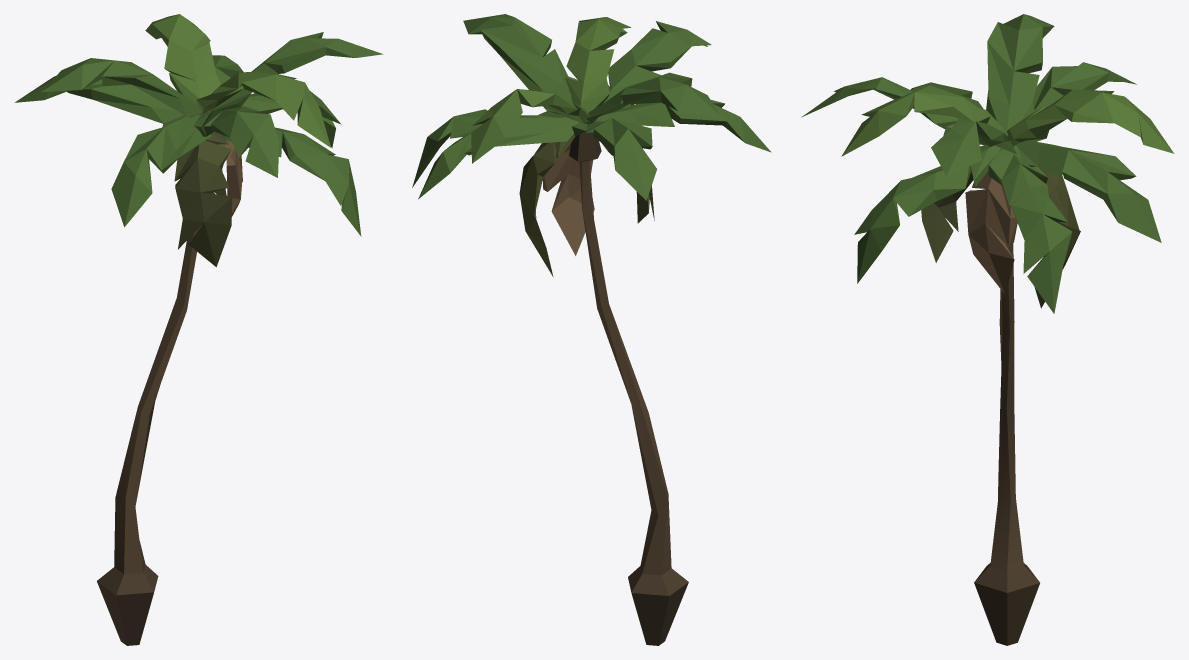
The model's file is SM_Env_PalmTree_02.glb.
3 views of the same model, side by side, from view 1: azimuth 30°, elevation 25°; view 2: azimuth 150°, elevation 25°; view 3: azimuth 270°, elevation 25° (orthographic). The views are drawn at different scales.
Parts seen in each view (by area): view 1: SM_Env_PalmTree_02; view 2: SM_Env_PalmTree_02; view 3: SM_Env_PalmTree_02.
Part boxes in pixels (<box>): SM_Env_PalmTree_02: <box>14,14,383,645</box>; SM_Env_PalmTree_02: <box>412,14,771,645</box>; SM_Env_PalmTree_02: <box>801,14,1174,645</box>.
Size of the model in its own units: 0.0489 by 0.0897 by 0.0501.
